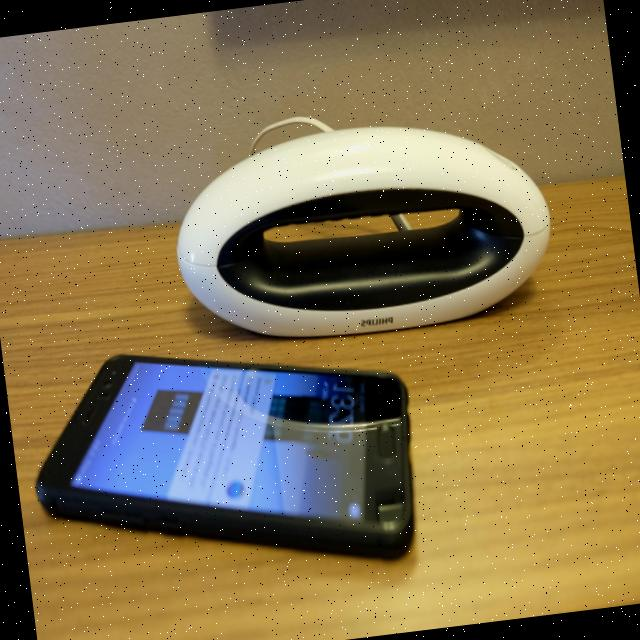Phone: (19, 316, 426, 598)
